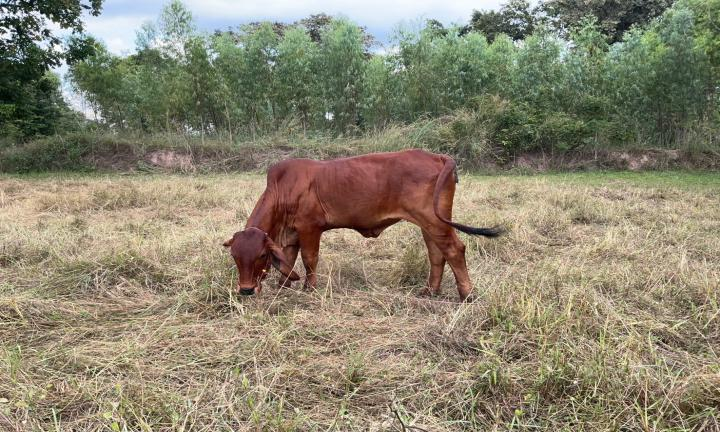Brahman: (223, 149, 501, 300)
